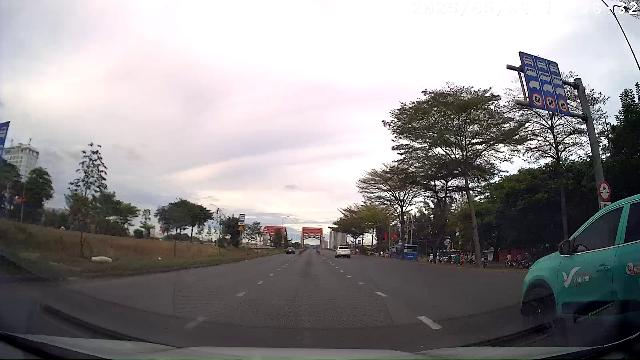127-toc-do-toi-da-60: (532, 92, 543, 106), (545, 95, 556, 109), (558, 99, 568, 112)
